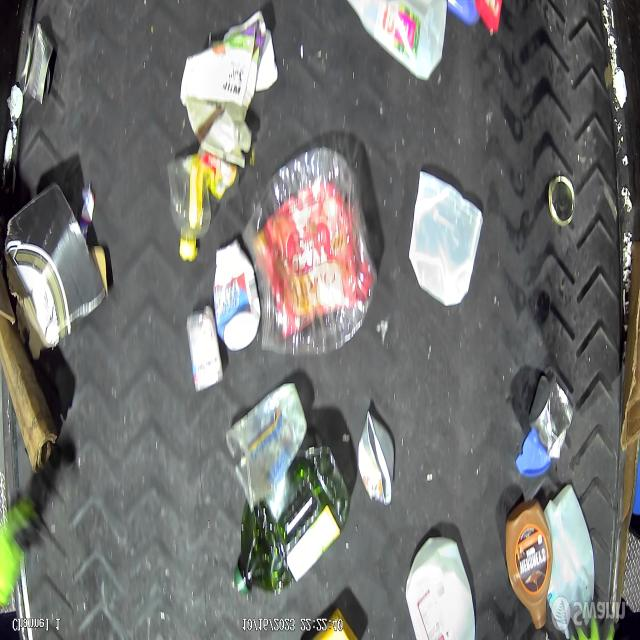can: (528, 369, 574, 459), (357, 410, 395, 506), (20, 22, 54, 106), (548, 176, 575, 227)
milk_jug: (544, 482, 596, 638), (406, 534, 476, 639)
non_white_jug: (505, 498, 553, 630)
plastic_bottle: (240, 149, 378, 357), (233, 430, 349, 598), (169, 153, 237, 261)
